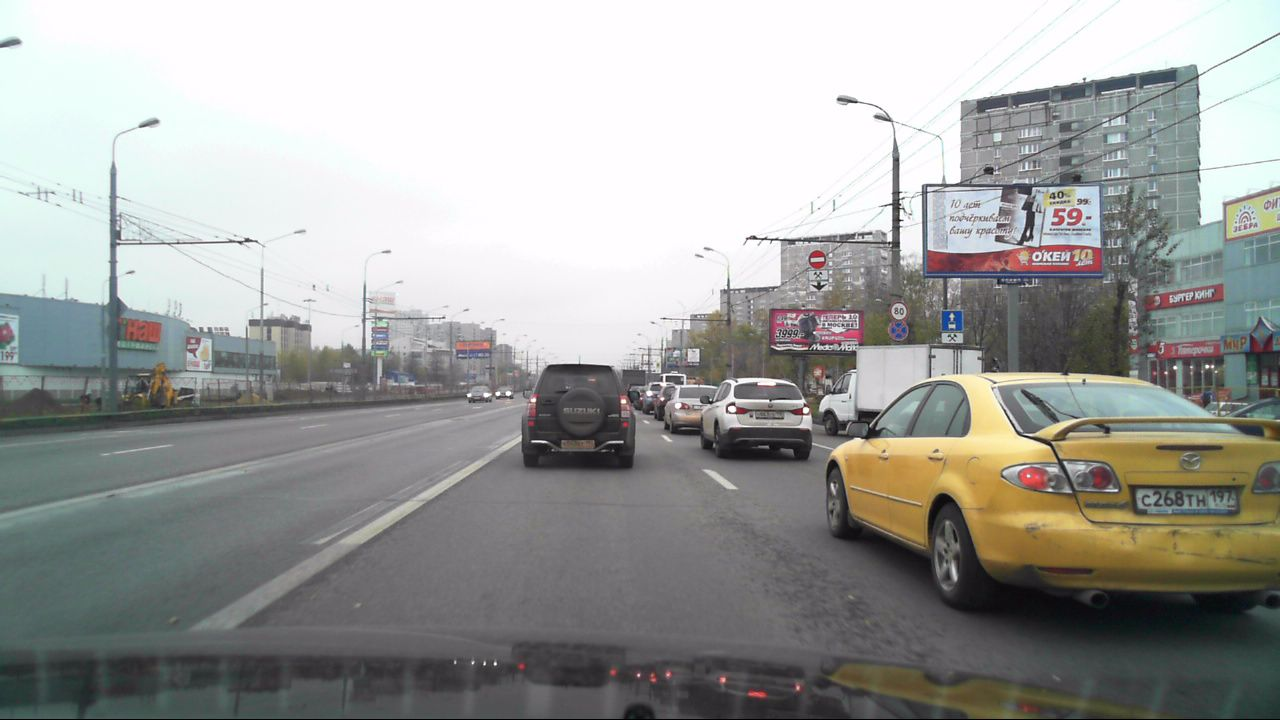No Parking: (887, 321, 909, 341)
